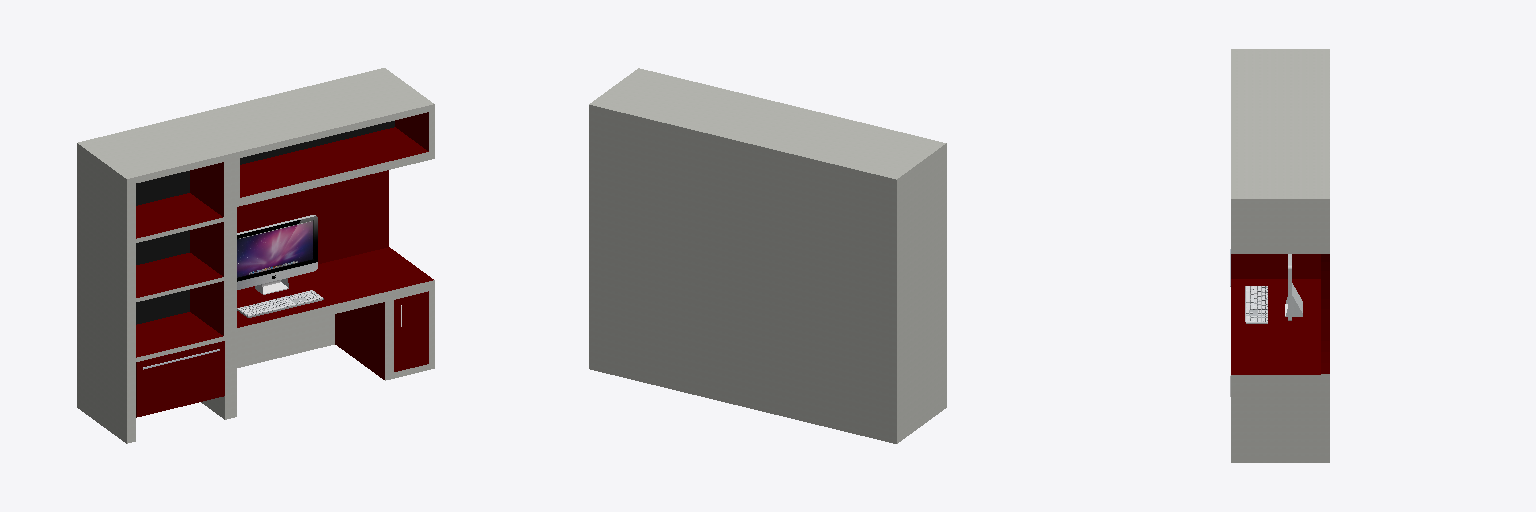
3 views of the same model, side by side, from view 1: azimuth 30°, elevation 25°; view 2: azimuth 150°, elevation 25°; view 3: azimuth 270°, elevation 25° (orthographic).
Visible parts, largest first — view 1: Mesh11 Component_12_1 Model, Mesh1 Group1 Component_12_1 Model, Mesh2 Group2 Component_12_1 Model; view 2: Mesh11 Component_12_1 Model; view 3: Mesh11 Component_12_1 Model, Mesh2 Group2 Component_12_1 Model, Mesh1 Group1 Component_12_1 Model.
Boxes of the visible parts, x1,y1,x2,y2 form: Mesh11 Component_12_1 Model: [77, 68, 434, 443]; Mesh1 Group1 Component_12_1 Model: [237, 215, 317, 294]; Mesh2 Group2 Component_12_1 Model: [237, 290, 323, 317]; Mesh11 Component_12_1 Model: [589, 68, 946, 443]; Mesh11 Component_12_1 Model: [1230, 49, 1329, 462]; Mesh2 Group2 Component_12_1 Model: [1245, 286, 1267, 323]; Mesh1 Group1 Component_12_1 Model: [1285, 254, 1302, 320].
Size of the model in its own units: 2.22 by 1.83 by 0.6302.
Materials: 11 (6 with a texture image).